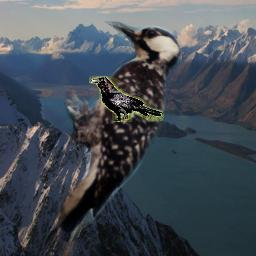Crow: (89, 76, 164, 122)
Woodpecker: (51, 19, 196, 251)
